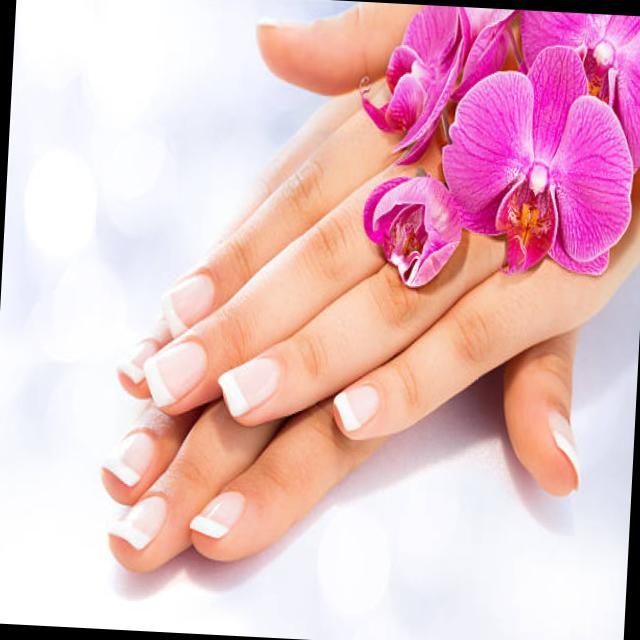Nail: (144, 342, 208, 407), (218, 356, 280, 417), (162, 274, 215, 338), (110, 496, 166, 550), (102, 432, 155, 486), (190, 491, 246, 538), (549, 412, 581, 485), (332, 387, 378, 434), (117, 340, 157, 383)
